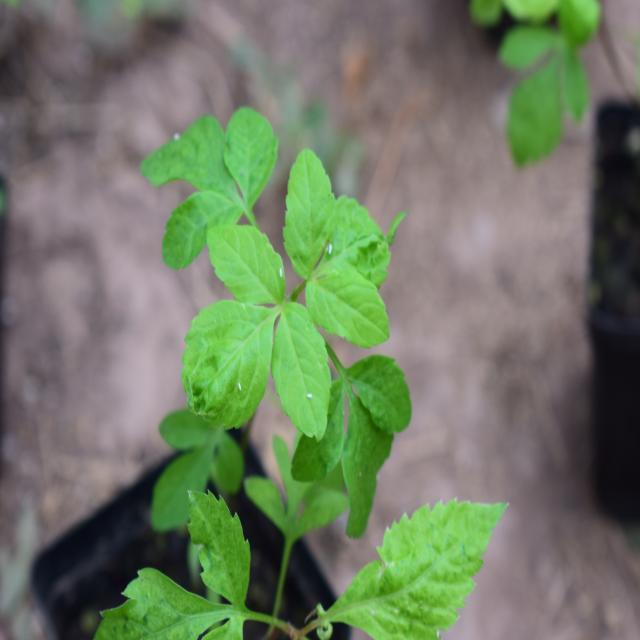Bidens pilosa: (135, 93, 425, 532)
